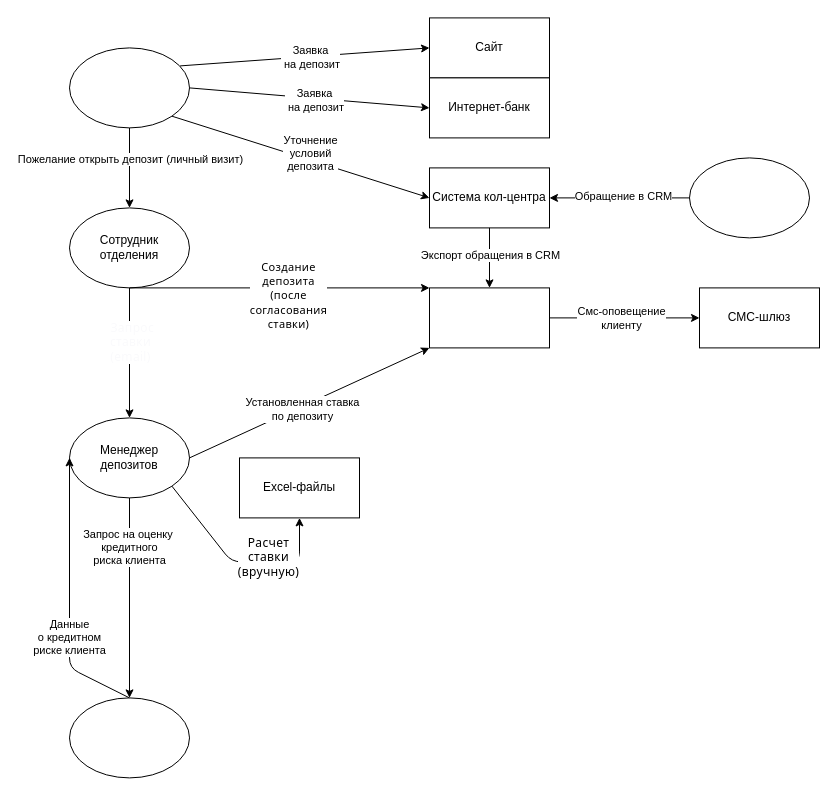
The diagram is 837 pixels wide and 795 high, and some of its shapes have lost their labels. The shapes that lost their labels are listed below. From the top down, each one's centre as x and y in pixels, then its label:
At (129,87): "Клиент".
At (749,197): "Оператор кол-центра".
At (489,317): "АБС".
At (129,737): "Менеджер кредитов".
